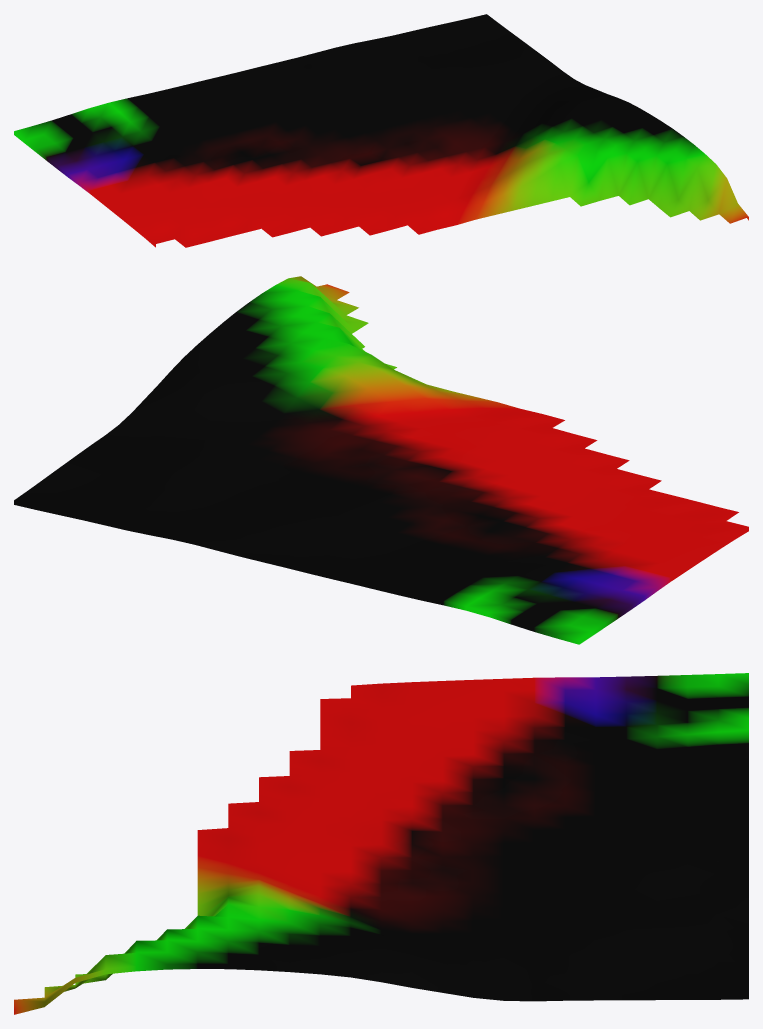
Rendered from coast_15_8.glb.
The picture shows the model from 3 angles, top to bottom: view 1: azimuth 30°, elevation 25°; view 2: azimuth 150°, elevation 25°; view 3: azimuth 270°, elevation 25°; orthographic projection. The views are drawn at different scales.
Visible parts, largest first — view 1: terrain; view 2: terrain; view 3: terrain.
Boxes of the visible parts, x1,y1,x2,y2 form: terrain: (14, 14, 748, 247); terrain: (14, 276, 748, 644); terrain: (14, 673, 748, 1014).
Bounding box in the file's own units: 200 × 14.74 × 192.
